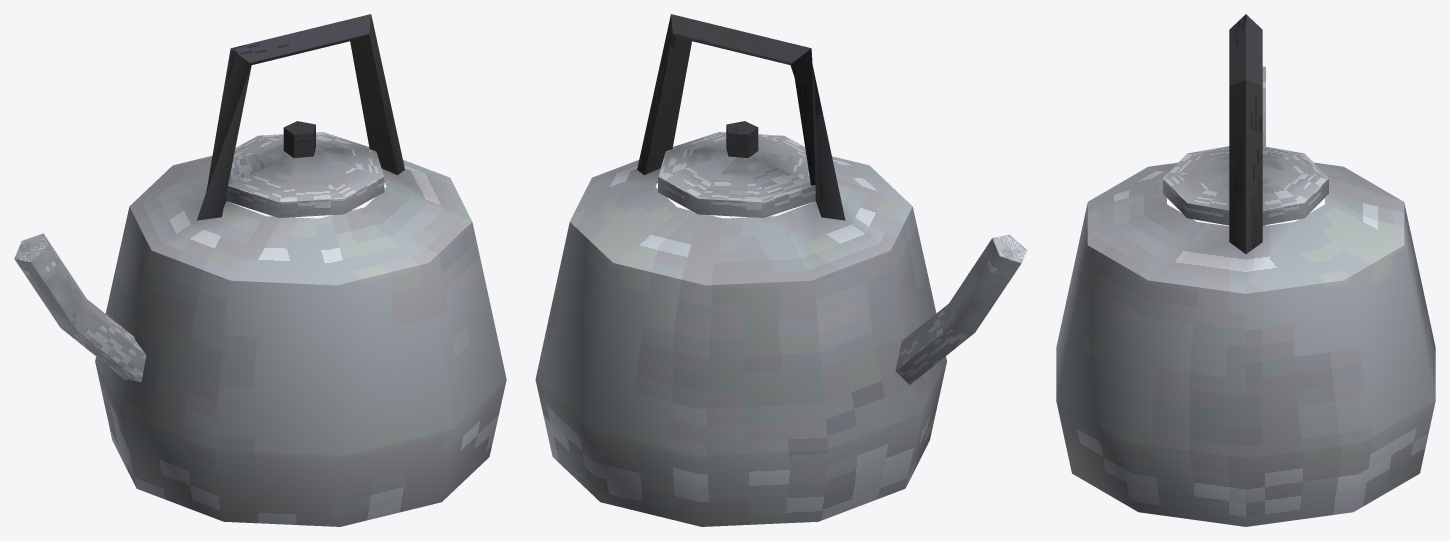
Rendered from kettle_stove.glb.
3 renders of one model, left to right at view 1: azimuth 30°, elevation 25°; view 2: azimuth 150°, elevation 25°; view 3: azimuth 270°, elevation 25°, orthographic. The views are drawn at different scales.
Parts seen in each view (by area): view 1: kettle_stove, kettle_stove_lid; view 2: kettle_stove, kettle_stove_lid; view 3: kettle_stove, kettle_stove_lid.
Part boxes in pixels (bbox=[...]): kettle_stove: bbox=[14, 14, 506, 526]; kettle_stove_lid: bbox=[226, 121, 384, 217]; kettle_stove: bbox=[535, 14, 1027, 526]; kettle_stove_lid: bbox=[658, 121, 815, 217]; kettle_stove: bbox=[1056, 14, 1435, 526]; kettle_stove_lid: bbox=[1163, 146, 1328, 225].
Size of the model in its own units: 0.3098 by 0.2671 by 0.2283.
2 materials, 2 textured.
